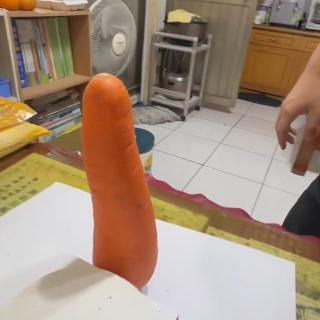carrot: (82, 73, 158, 289)
